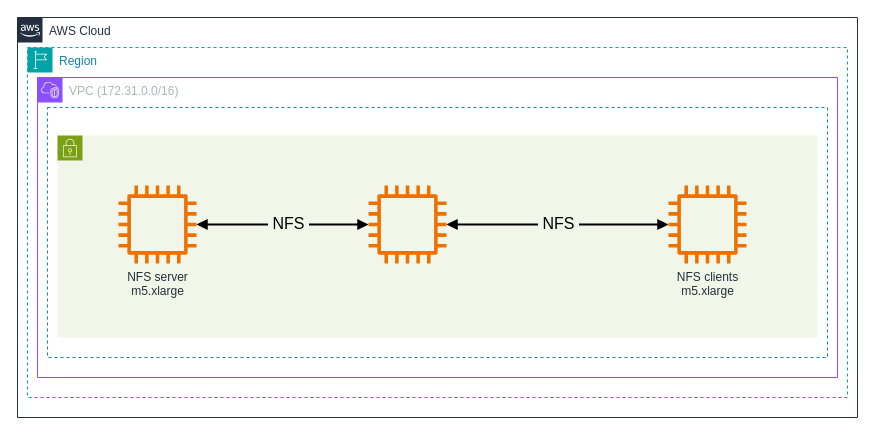
Image size: 875x435. Some labels were removed from this diagram. Here are the shapes that lost their labels. From the top down, the box of each, then its label:
(368, 185, 446, 263): KNFSD proxy i4i.xlarge
(46, 106, 828, 358): Availability Zone
(56, 134, 818, 338): Public subnet (172.31.0.0/20)
